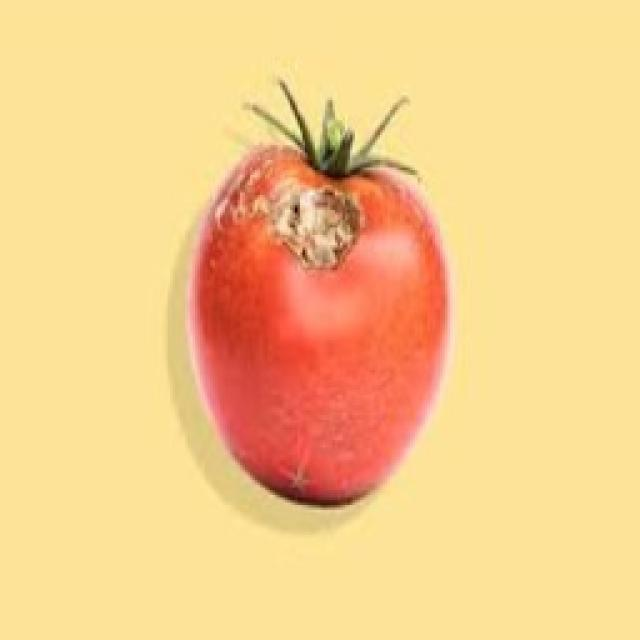overripe tomato: (176, 94, 474, 532)
